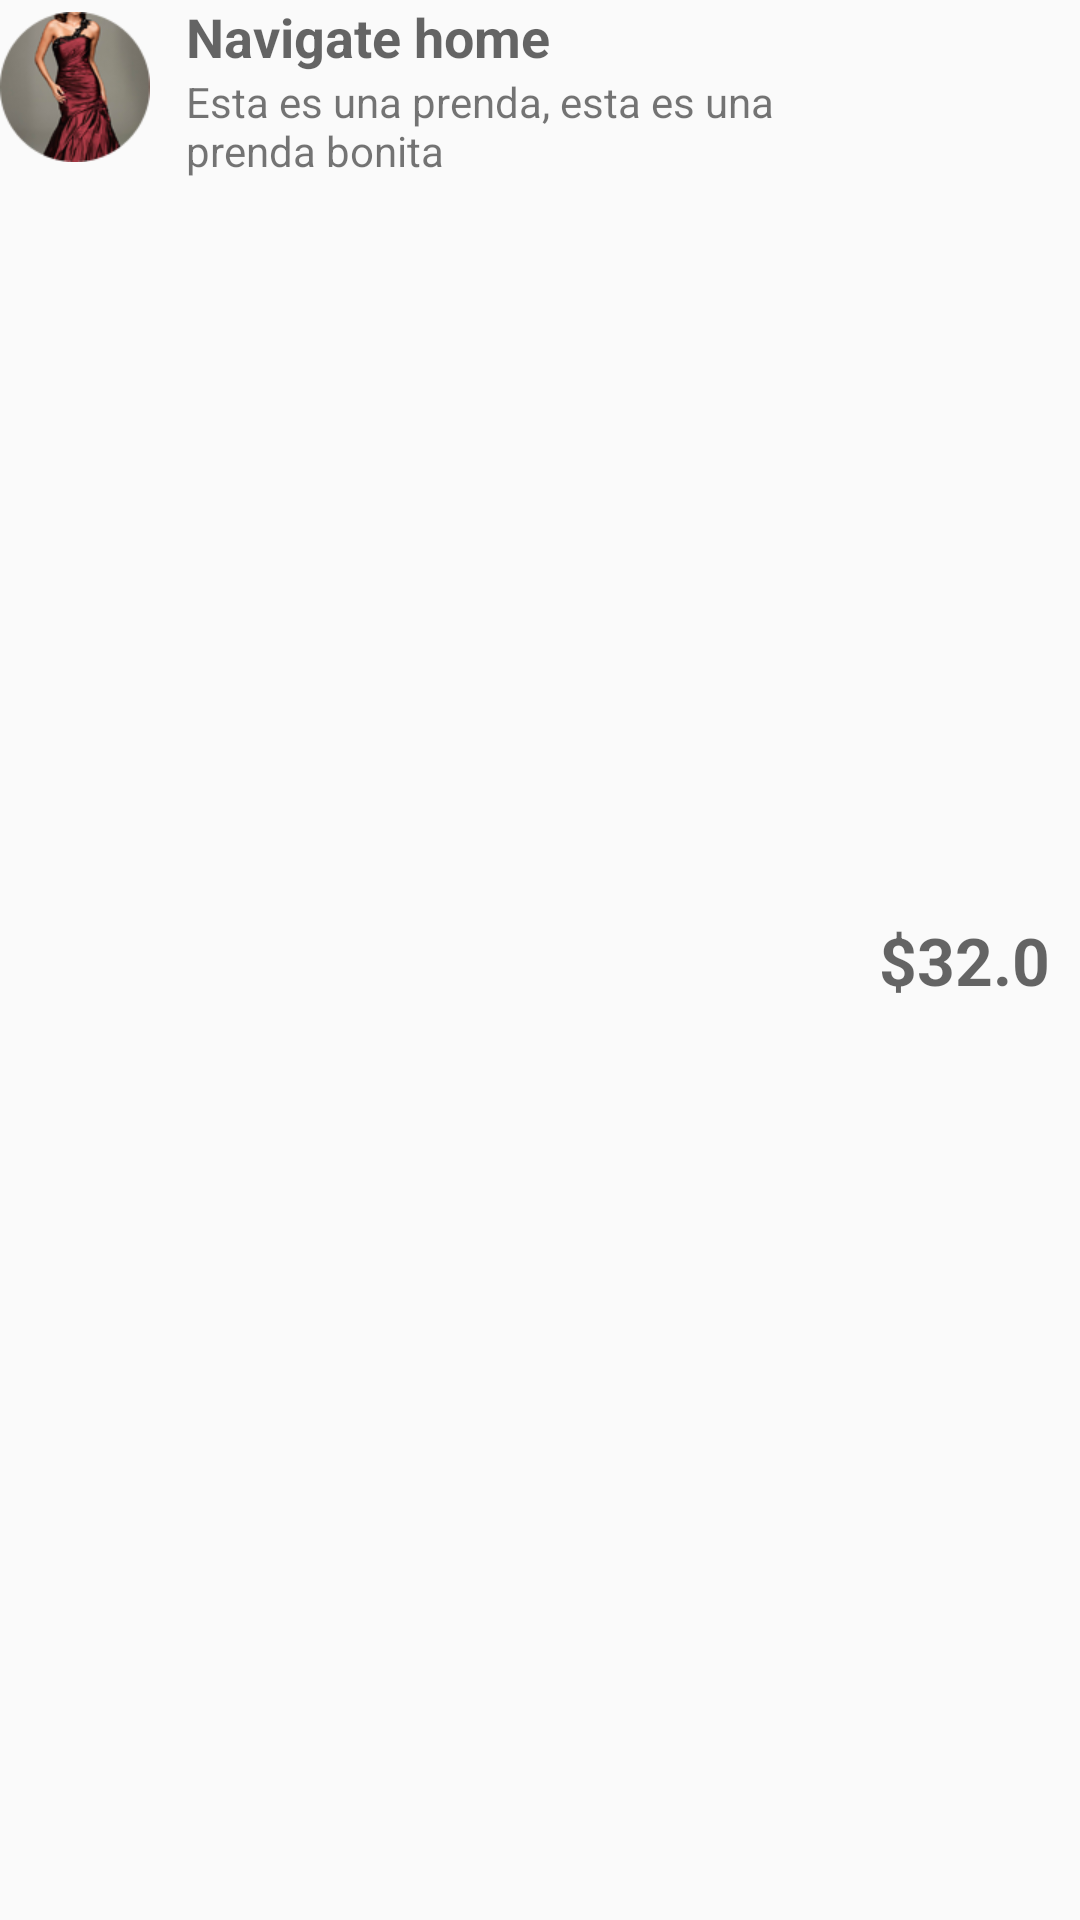

Where icons sit on this 1080*1920 app screen, as (x1, y1, x2, y2):
circle dress: (0, 12, 150, 162)
